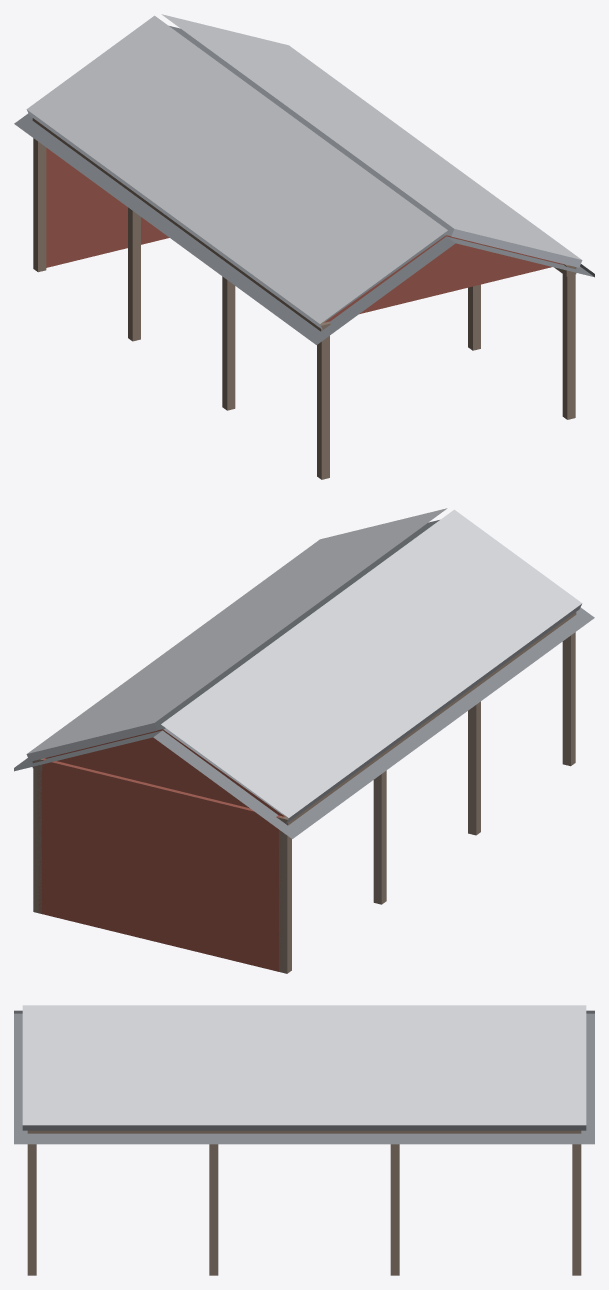
File: katos.glb
3 views of the same model, one above another, from view 1: azimuth 30°, elevation 25°; view 2: azimuth 150°, elevation 25°; view 3: azimuth 270°, elevation 25° (orthographic). The views are drawn at different scales.
Visible parts, largest first — view 1: katos; view 2: katos; view 3: katos.
Part boxes in pixels (x1,y1,x2,y2): katos: [14, 14, 594, 479]; katos: [14, 508, 594, 973]; katos: [14, 1005, 594, 1275].
Bounding box in the file's own units: 6.8 × 5.16 × 12.8.
